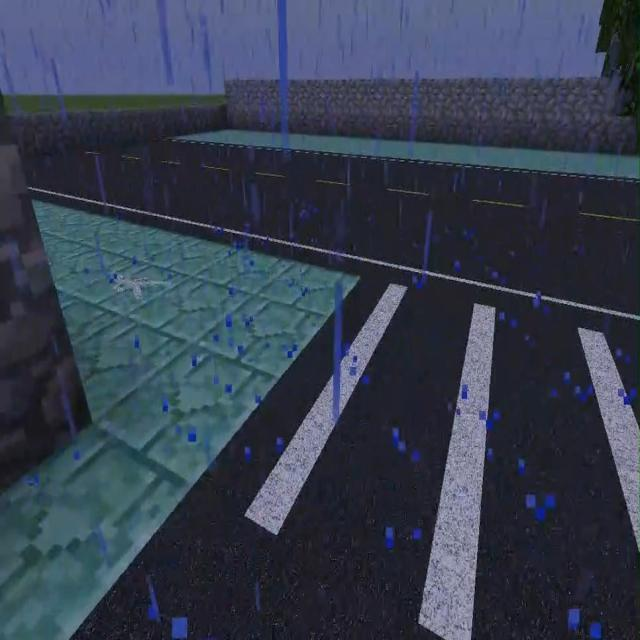8: (203, 277, 639, 639)
crosswalk: (21, 142, 639, 334), (78, 493, 430, 639)
road: (0, 199, 362, 639), (181, 130, 639, 175)
